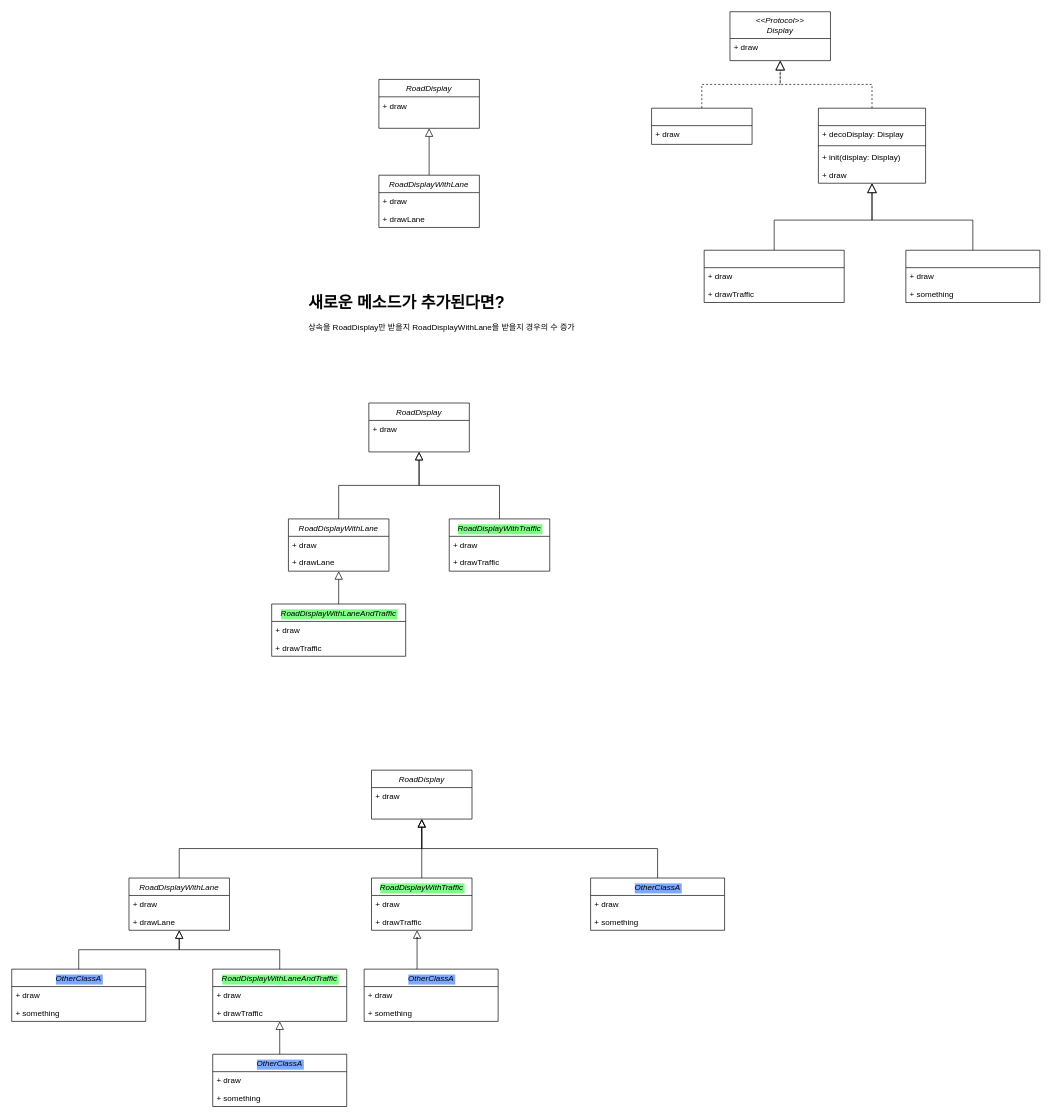
Some shapes in this 1052 by 1120 pixel diagram are drawn without their labels. Here are the shapes that lost their labels. From the top down, the box of each, then its label:
(651, 108, 752, 144): RoadDisplay: Display
(818, 108, 926, 183): DisplayDecorator: Display
(704, 250, 844, 303): TrafficDeco: DisplayDecorator
(905, 250, 1040, 303): OtherDeco: DisplayDecorator
